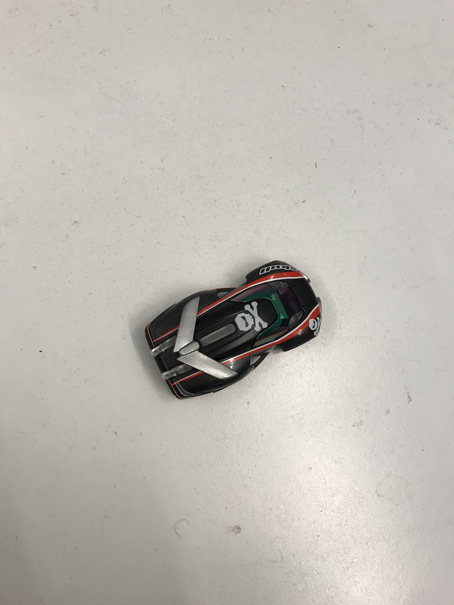Skull: (143, 258, 324, 401)
